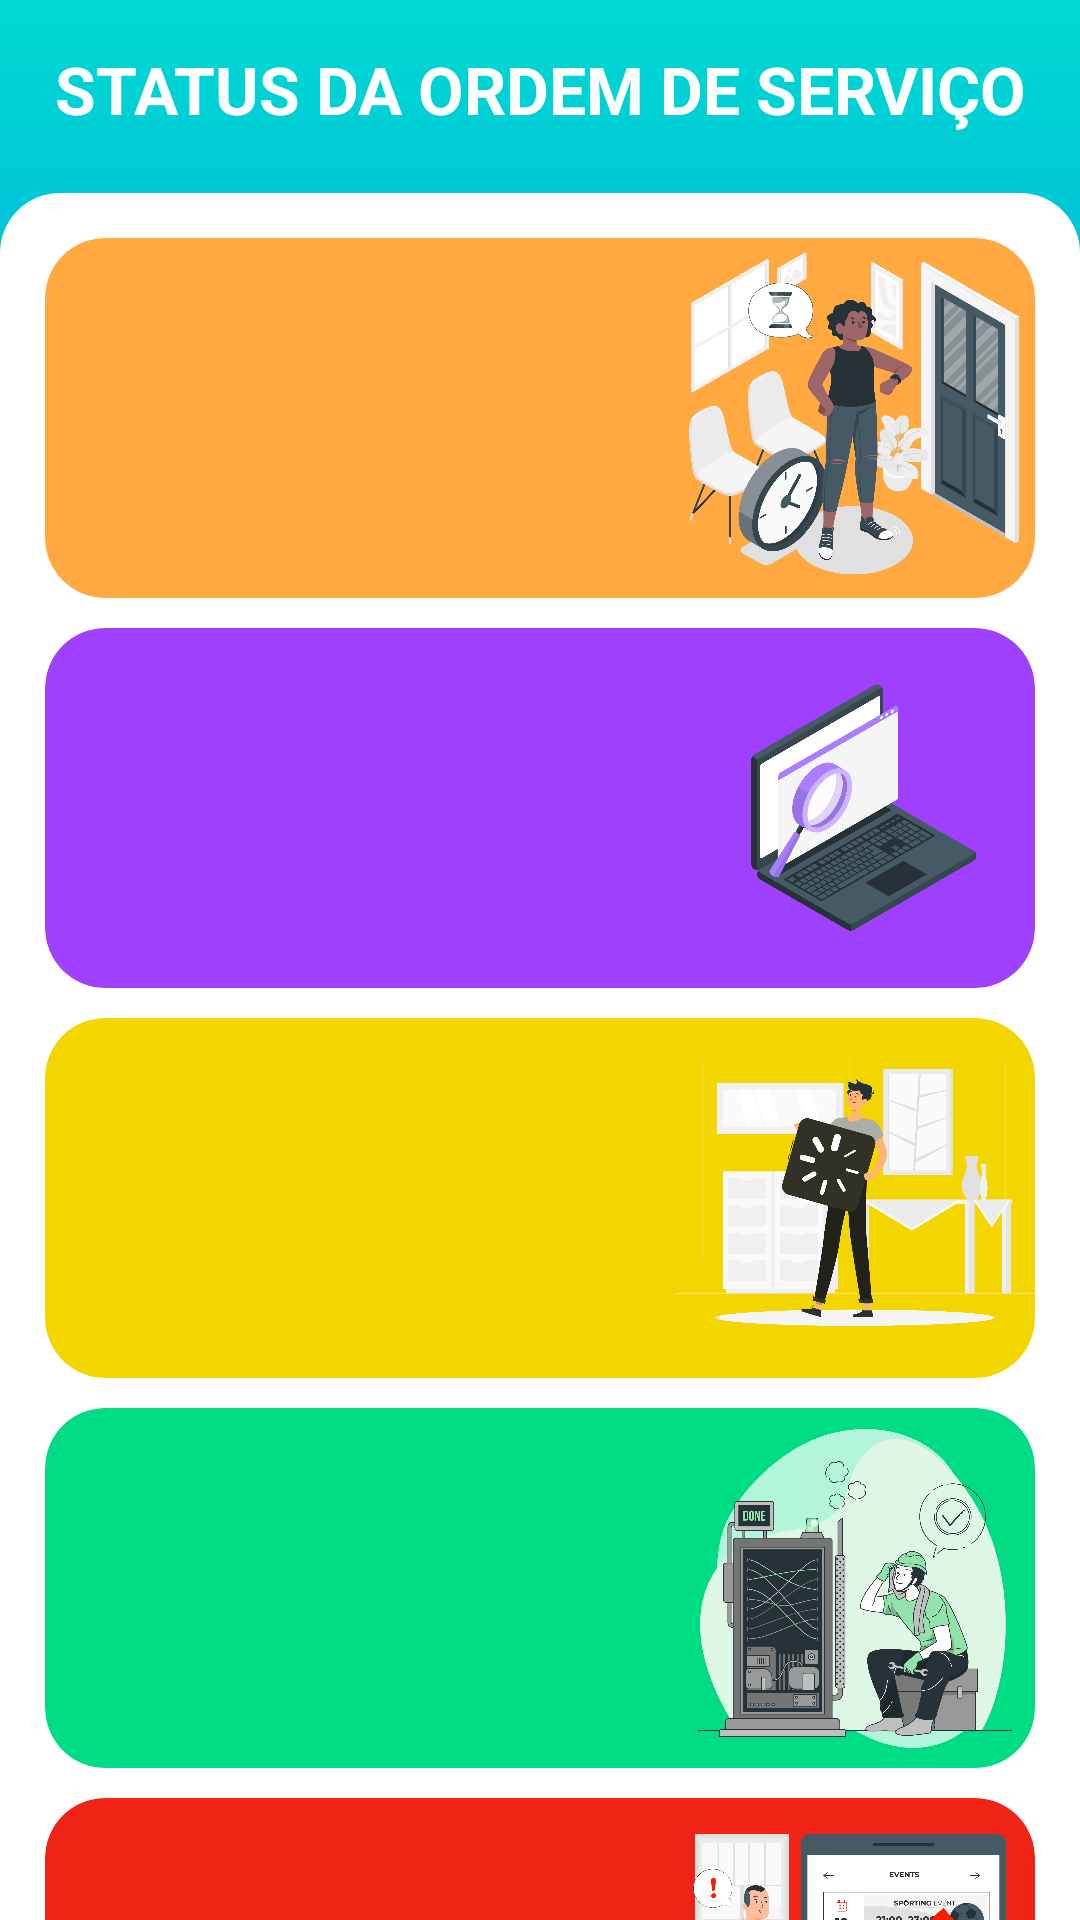

Screen size 1080px×1920px. Icon name, then its center in pixels as (x,y):
done: (855,1588)
pendente: (855,418)
